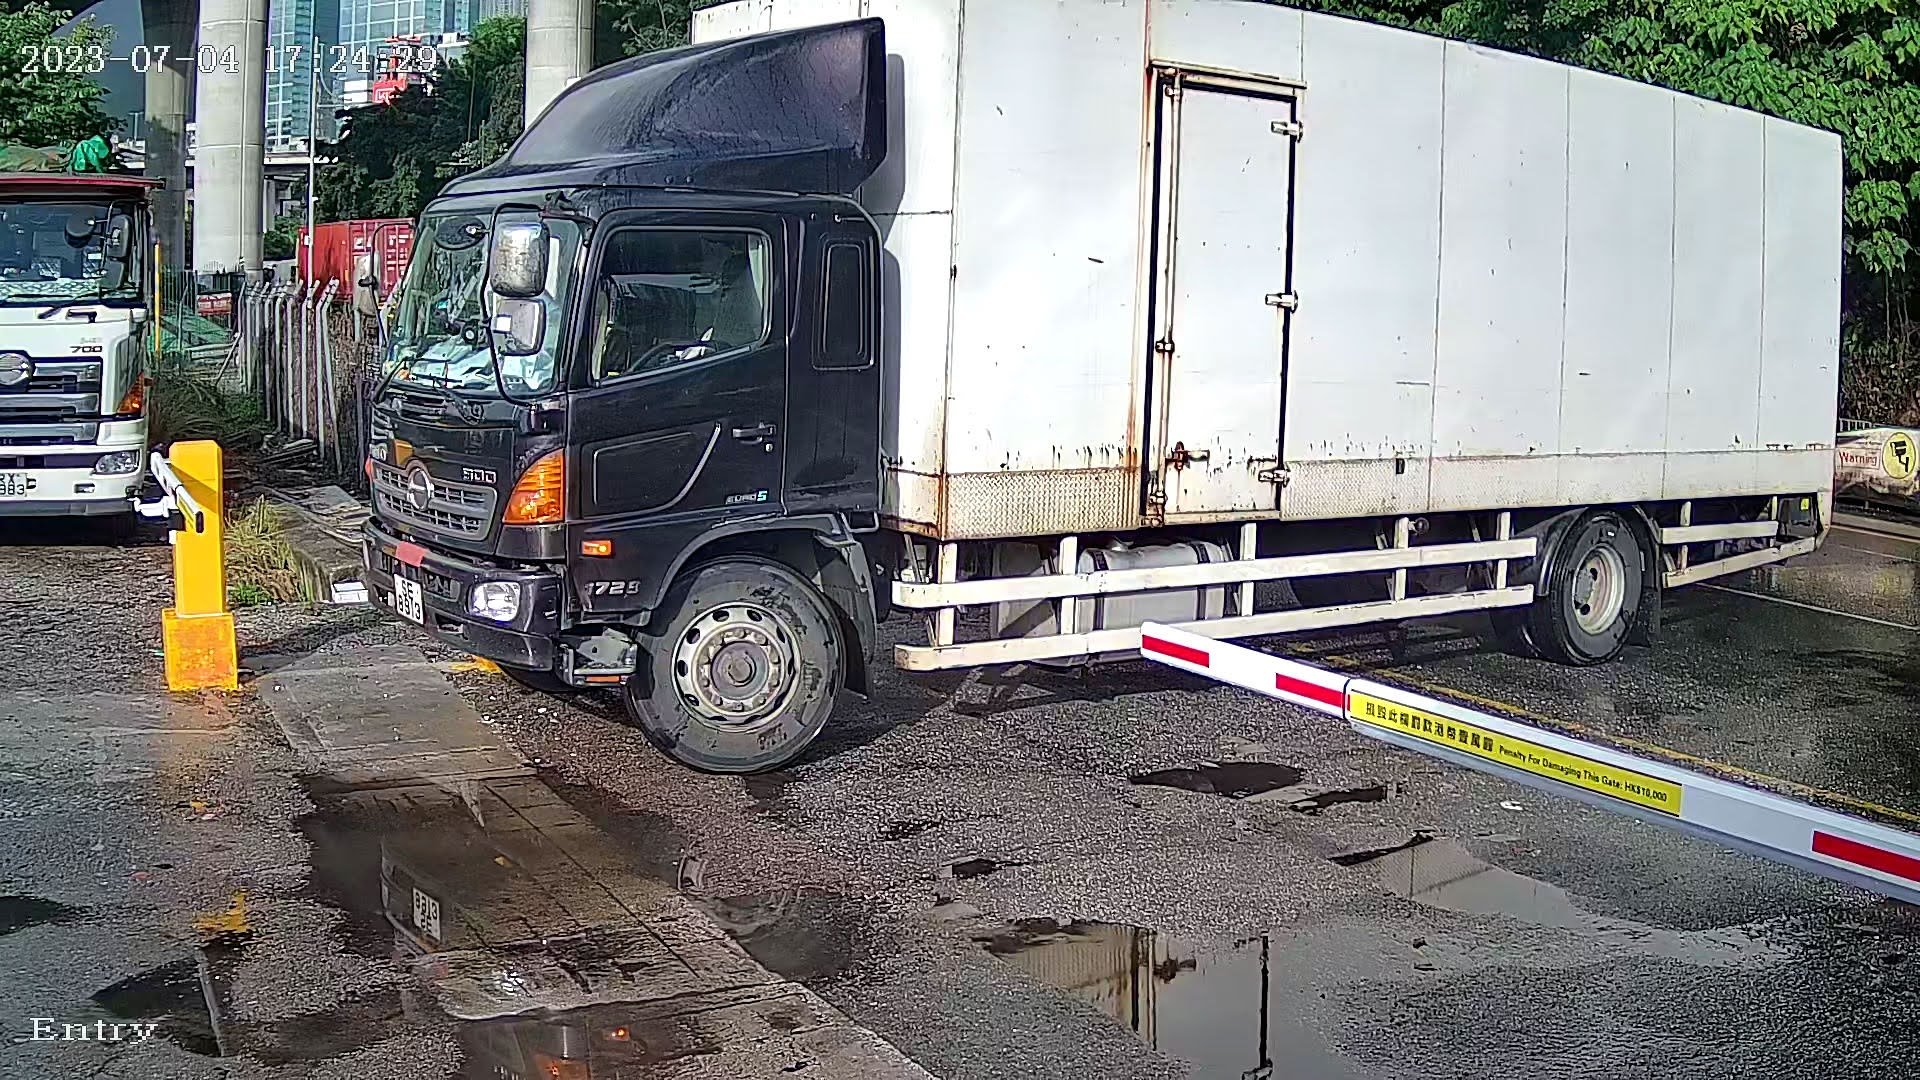truck: (344, 1, 1858, 818)
